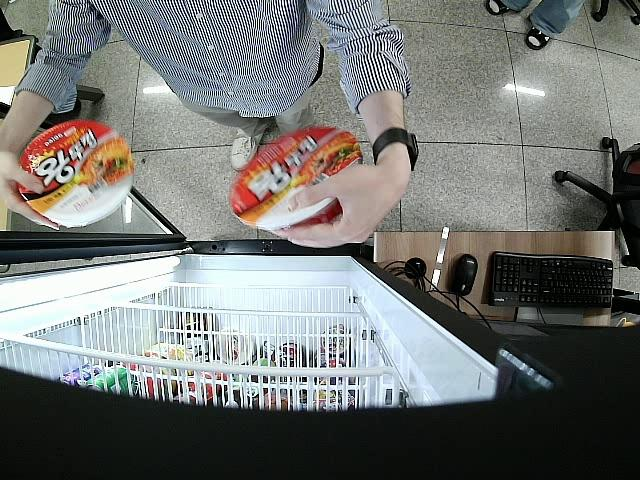00_hand: (271, 164, 400, 250), (0, 131, 61, 233)
10_wangTtukkeong: (227, 125, 361, 228), (17, 118, 136, 229)
